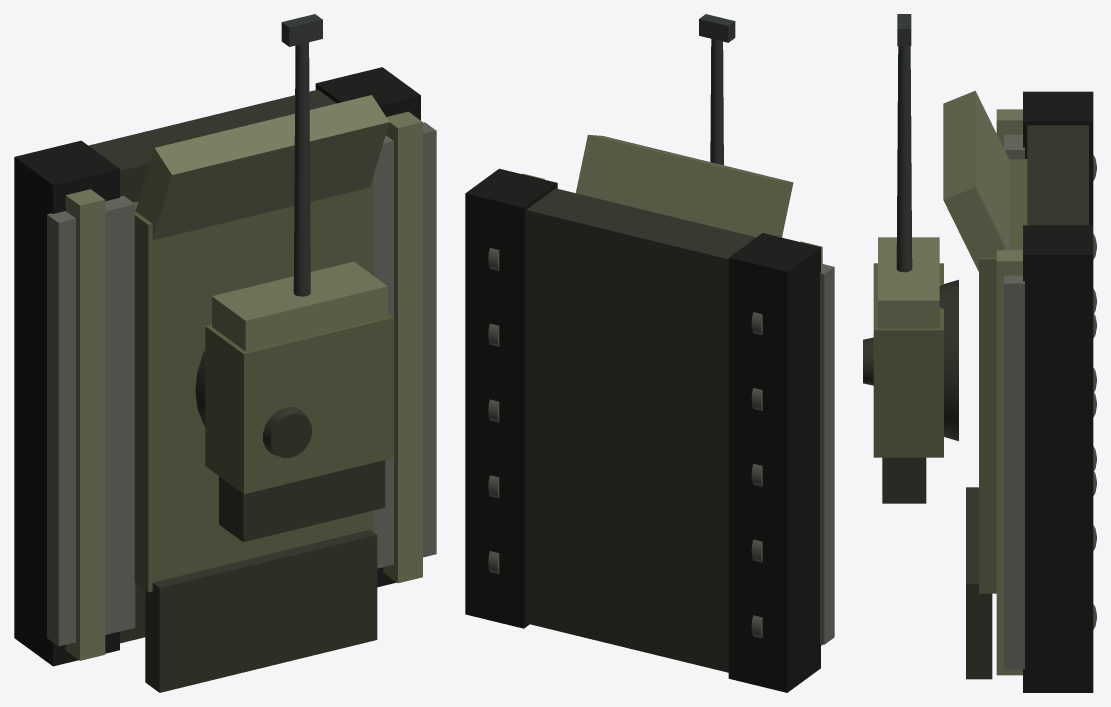
The picture shows the model from 3 angles, left to right: view 1: azimuth 30°, elevation 25°; view 2: azimuth 150°, elevation 25°; view 3: azimuth 270°, elevation 25°; orthographic projection. The views are drawn at different scales.
Parts seen in each view (by area): view 1: open_fast_hull_upper, rear_engine_grilles, left_track_guard, open_top_turret_box, left_track_rubber, sloped_fast_glacis, left_light_fender, right_light_fender, right_track_guard, thin_front_shield, open_turret_rear_counterweight, thin_hull_lower (+4 smaller); view 2: thin_hull_lower, left_track_rubber, right_track_rubber, sloped_fast_glacis, left_track_guard, barrel_tube, muzzle_brake; view 3: right_track_rubber, open_top_turret_box, sloped_fast_glacis, right_track_guard, open_fast_hull_upper, thin_hull_lower, thin_front_shield, right_light_fender, rear_engine_grilles, barrel_tube, left_track_rubber, small_turret_ring (+5 smaller).
Part boxes in pixels (<box>): open_fast_hull_upper: <box>133,175,373,592</box>; rear_engine_grilles: <box>145,529,377,692</box>; left_track_guard: <box>47,195,135,646</box>; open_top_turret_box: <box>205,313,394,494</box>; left_track_rubber: <box>14,140,119,666</box>; sloped_fast_glacis: <box>135,95,389,240</box>; left_light_fender: <box>65,189,105,660</box>; right_light_fender: <box>383,111,422,583</box>; right_track_guard: <box>374,122,436,568</box>; thin_front_shield: <box>212,261,387,351</box>; open_turret_rear_counterweight: <box>219,460,385,542</box>; thin_hull_lower: <box>88,89,336,643</box>; thin_hull_lower: <box>526,188,755,672</box>; left_track_rubber: <box>728,233,820,692</box>; right_track_rubber: <box>465,168,557,628</box>; sloped_fast_glacis: <box>576,134,793,237</box>; left_track_guard: <box>820,263,834,644</box>; barrel_tube: <box>710,39,723,165</box>; muzzle_brake: <box>699,14,735,42</box>; right_track_rubber: <box>1023,225,1093,692</box>; open_top_turret_box: <box>873,263,943,457</box>; sloped_fast_glacis: <box>943,90,1009,271</box>; right_track_guard: <box>1004,249,1024,668</box>; open_fast_hull_upper: <box>979,159,1027,593</box>; thin_hull_lower: <box>1027,125,1088,225</box>; thin_front_shield: <box>878,237,939,328</box>; right_light_fender: <box>996,250,1022,675</box>; rear_engine_grilles: <box>966,487,992,679</box>; barrel_tube: <box>896,46,912,272</box>; left_track_rubber: <box>1023,91,1093,225</box>; small_turret_ring: <box>939,279,958,441</box>.
Bounding box in the file's own units: 45.2 × 76.59 × 26.6.
